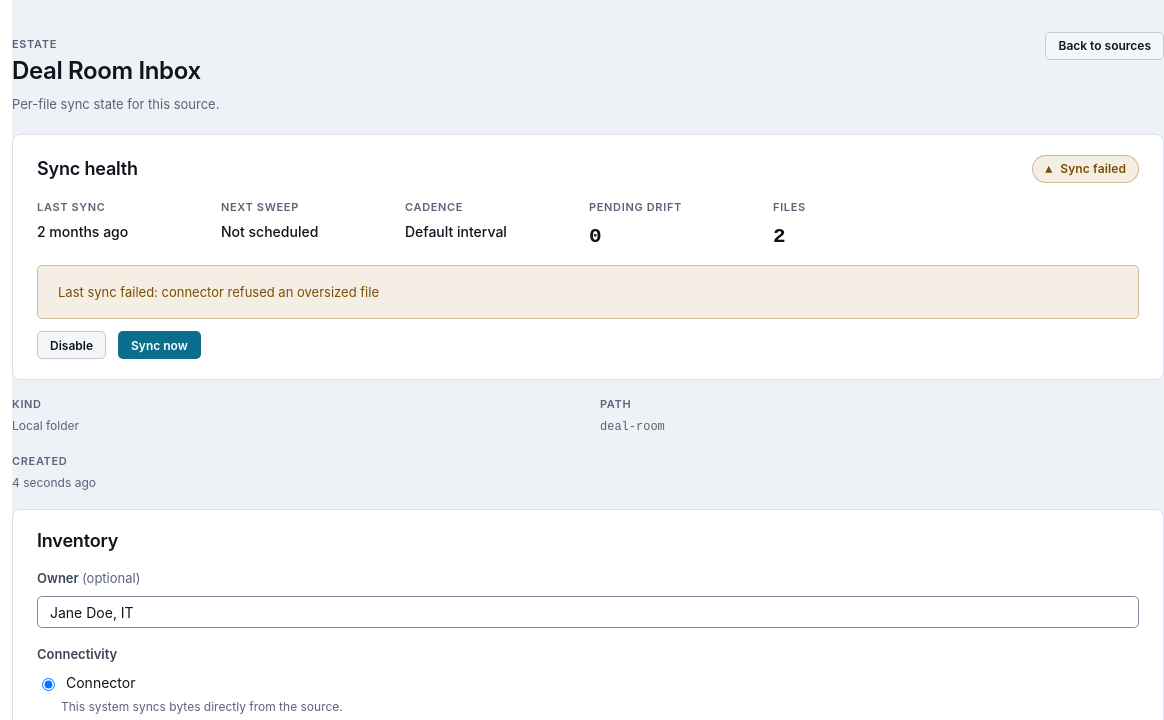
SourceDetailPage › shows an error when toggling the source fails, without blocking further attempts
Step 1. Click the button "Disable" → click(72, 345), box x1=37 y1=331 x2=106 y2=359
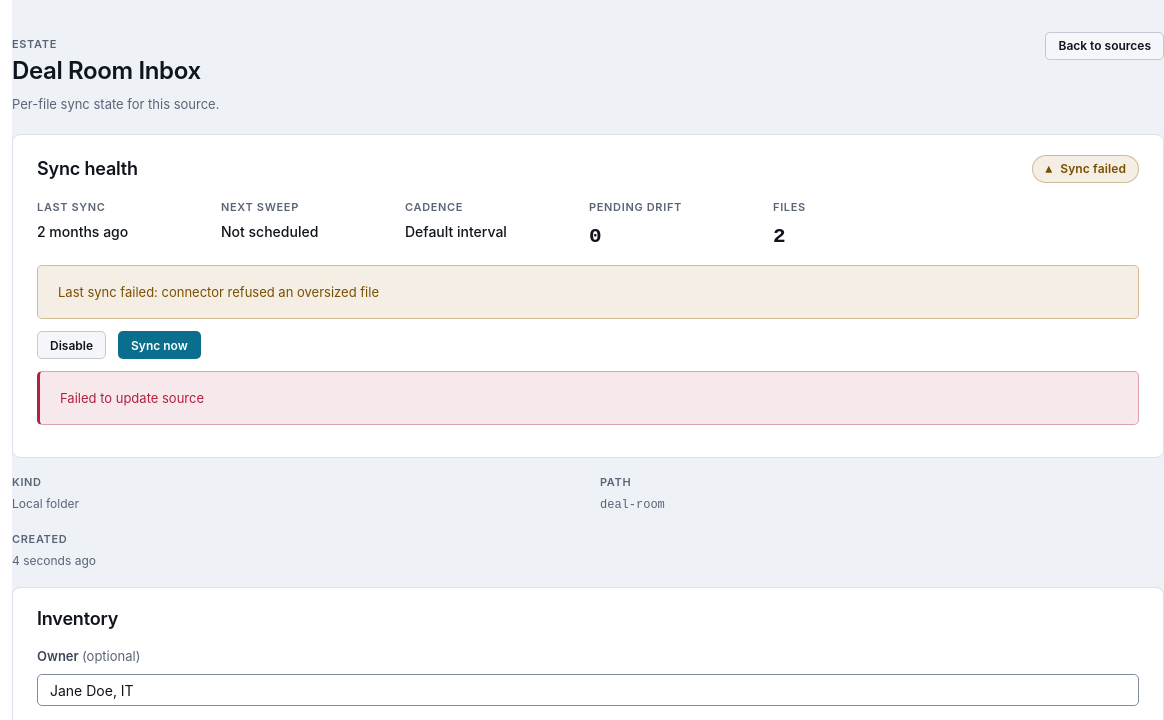
Check: the message "Failed to update source" is shown, box x1=37 y1=371 x2=1139 y2=425
